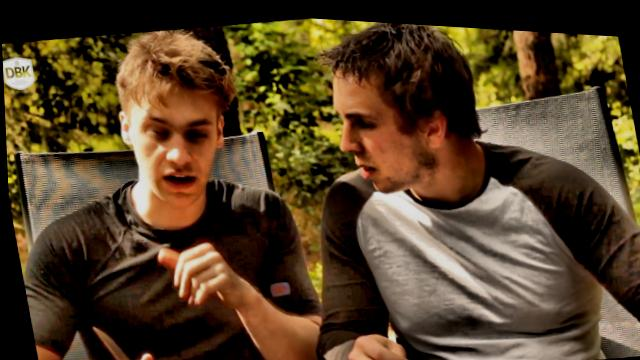knife: (82, 309, 164, 360)
